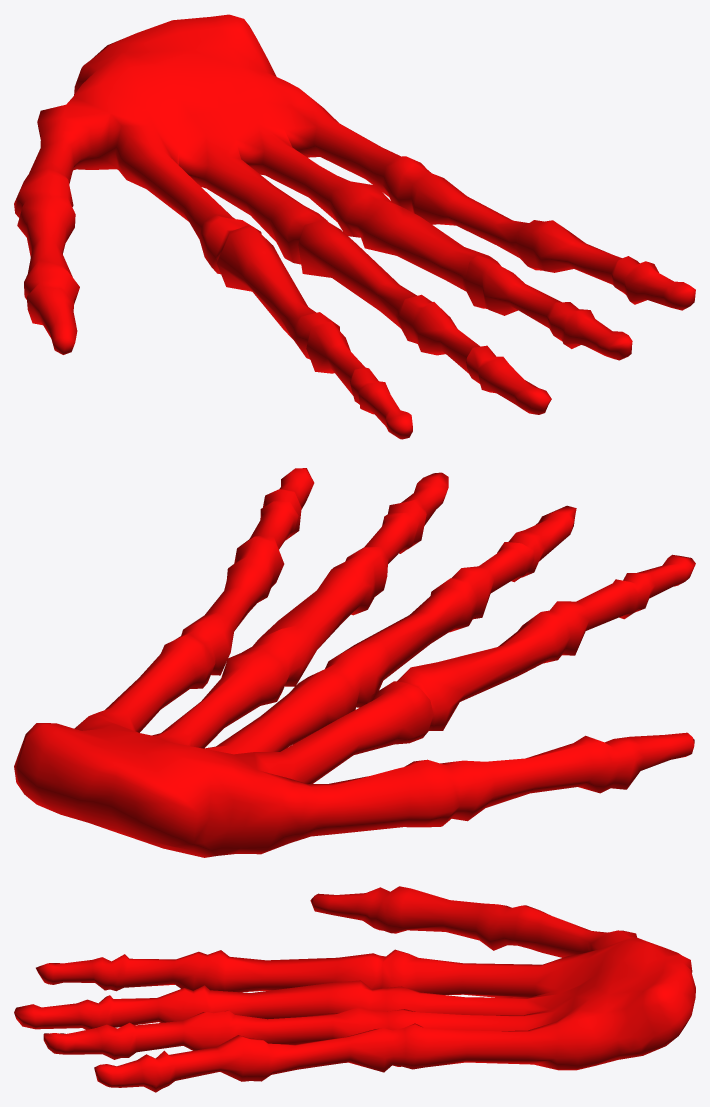
The model's file is SM_R_Hands.FBX.
3 views of the same model, one above another, from view 1: azimuth 30°, elevation 25°; view 2: azimuth 150°, elevation 25°; view 3: azimuth 270°, elevation 25° (orthographic). The views are drawn at different scales.
Parts seen in each view (by area): view 1: R_Hands; view 2: R_Hands; view 3: R_Hands.
Boxes of the visible parts, x1=… form: R_Hands: x1=14, y1=14, x2=695, y2=439; R_Hands: x1=14, y1=468, x2=695, y2=857; R_Hands: x1=14, y1=886, x2=695, y2=1092.
Size of the model in its own units: 13.77 by 2.66 by 19.77.
